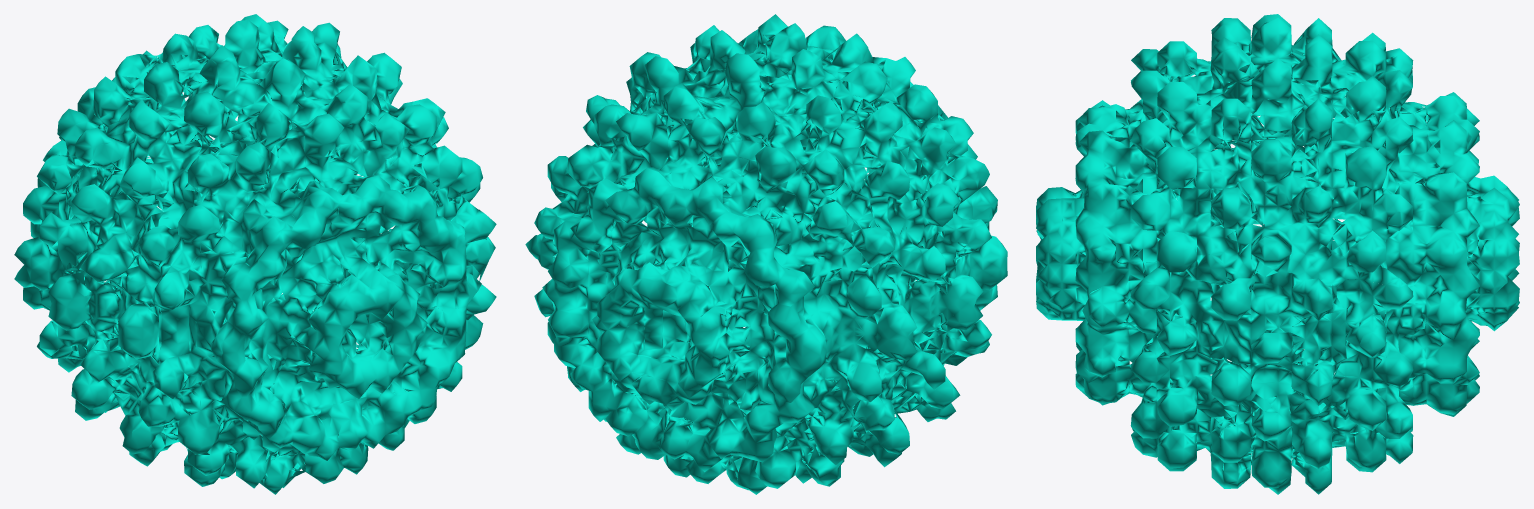
Rendered from ifs_mandelbulb_raymarched_mesh_1780767057017.glb.
3 views of the same model, side by side, from view 1: azimuth 30°, elevation 25°; view 2: azimuth 150°, elevation 25°; view 3: azimuth 270°, elevation 25° (orthographic).
Visible parts, largest first — view 1: mandelbulb_p15.2; view 2: mandelbulb_p15.2; view 3: mandelbulb_p15.2.
Boxes of the visible parts, left/top/right/bottom form: mandelbulb_p15.2: left=14, top=14, right=496, bottom=494; mandelbulb_p15.2: left=525, top=14, right=1007, bottom=494; mandelbulb_p15.2: left=1036, top=14, right=1519, bottom=494.
Bounding box in the file's own units: 2.11 × 2.1 × 2.1.
